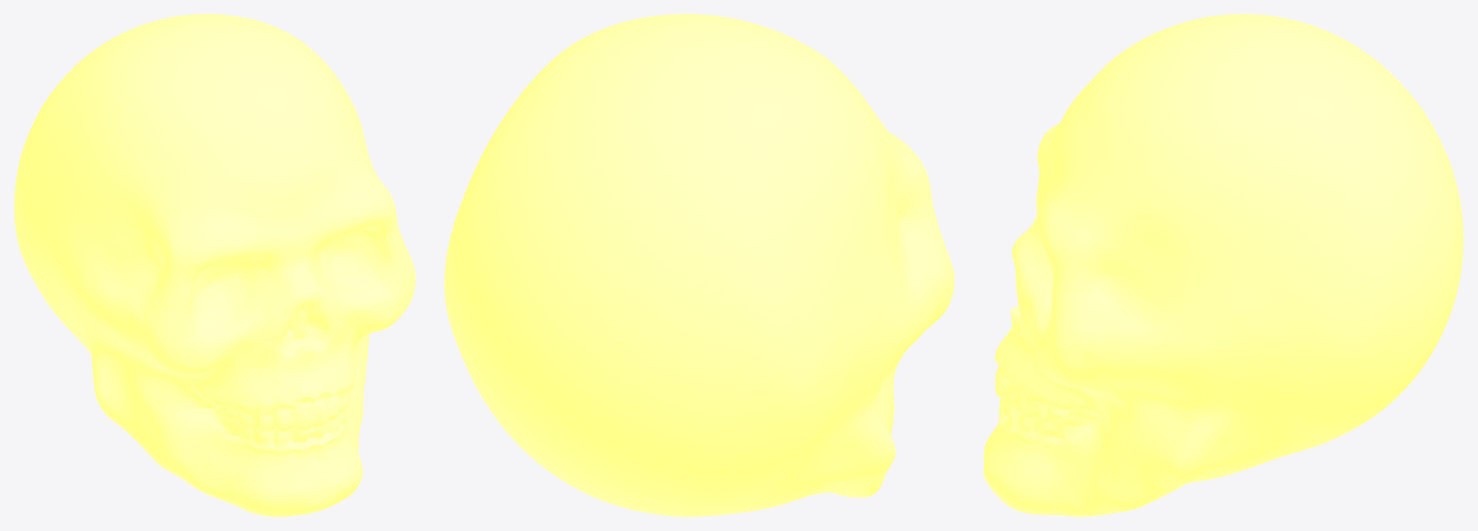
Rendered from skellyGreen.glb.
The picture shows the model from 3 angles, left to right: view 1: azimuth 30°, elevation 25°; view 2: azimuth 150°, elevation 25°; view 3: azimuth 270°, elevation 25°; orthographic projection. The views are drawn at different scales.
Visible parts, largest first — view 1: skull; view 2: skull; view 3: skull.
Boxes of the visible parts, x1,y1,x2,y2 form: skull: (14,14,415,516); skull: (444,14,954,516); skull: (983,14,1463,516).
Size of the model in its own units: 1.71 by 2.24 by 2.12.
